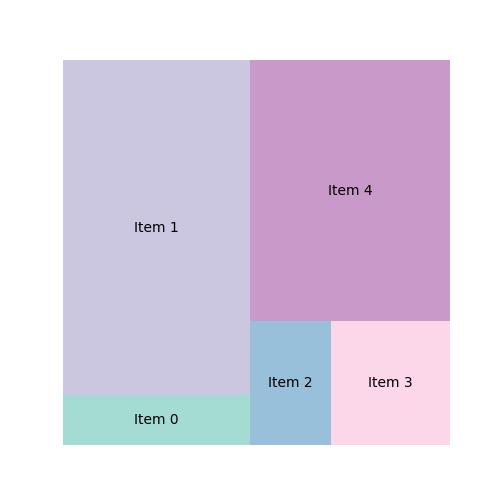rectangle: (63, 59, 250, 397), (250, 59, 450, 320), (332, 321, 451, 446), (251, 319, 333, 446), (62, 397, 250, 445)
